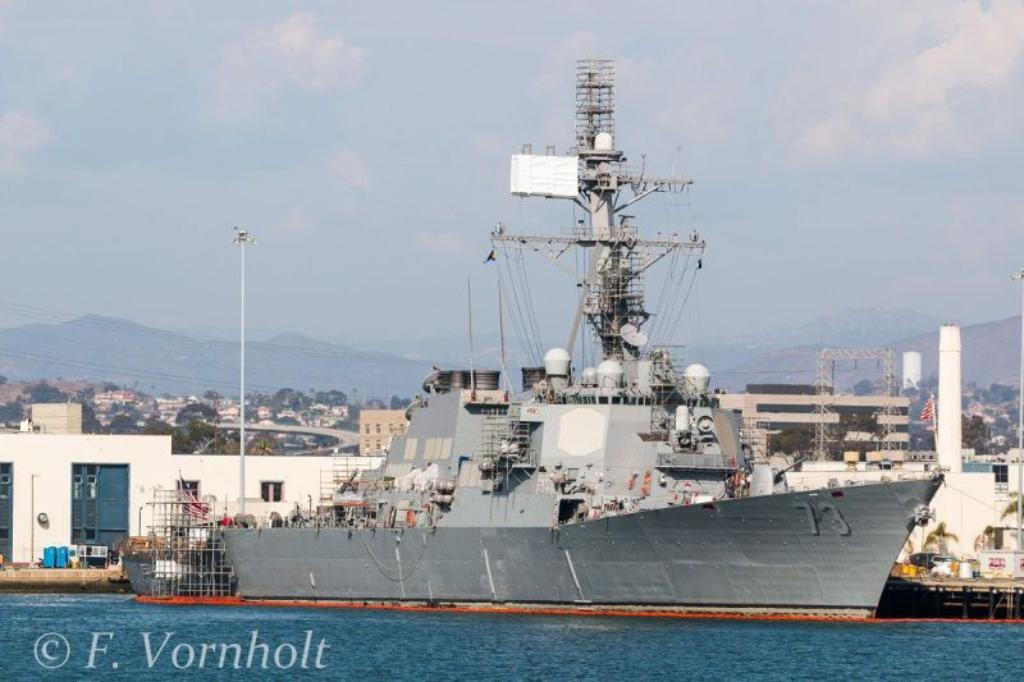Warship: (198, 123, 948, 627)
